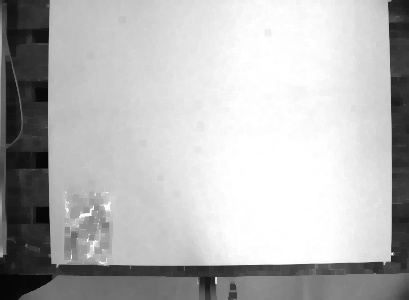t2: (60, 185, 116, 270)
